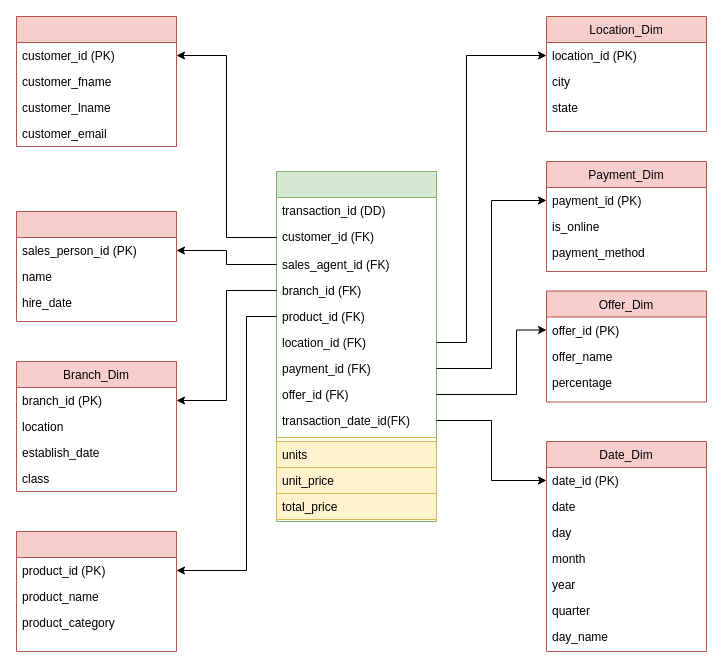
Some shapes in this 723 by 668 pixel diagram are drawn without their labels. Here are the shapes that lost their labels. From the top down, the box of each, then its label:
(16, 16, 176, 146): Customer_Dim
(16, 210, 176, 322): Sales_Agents_Dim
(276, 170, 436, 522): Sales_Transaction_Fact
(16, 530, 176, 652): Product_Dim
